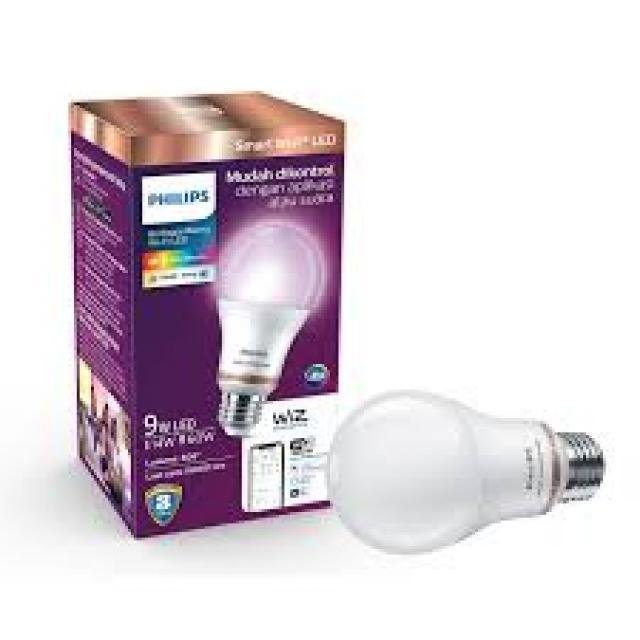light_bulb: (311, 360, 614, 576)
